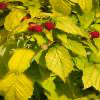Raspberry leaf: (44, 44, 74, 83), (0, 71, 33, 99), (53, 16, 90, 38), (8, 47, 34, 75), (82, 63, 99, 91)
